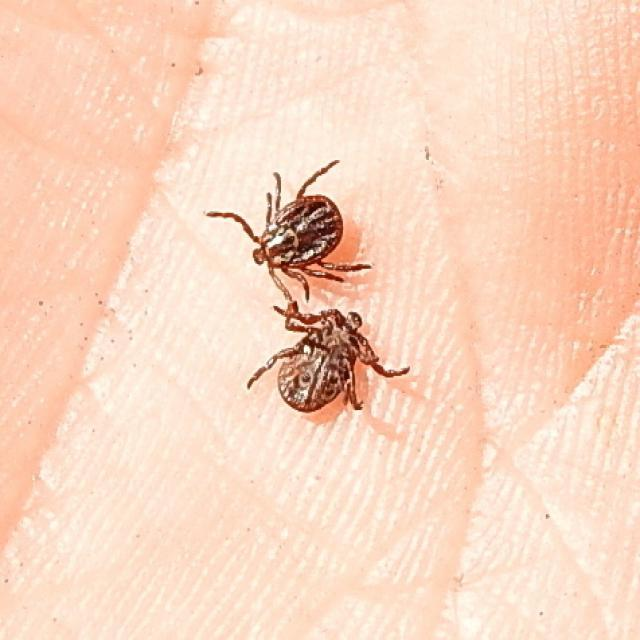Dermacentor Reticulatus-F: (206, 160, 372, 304)
